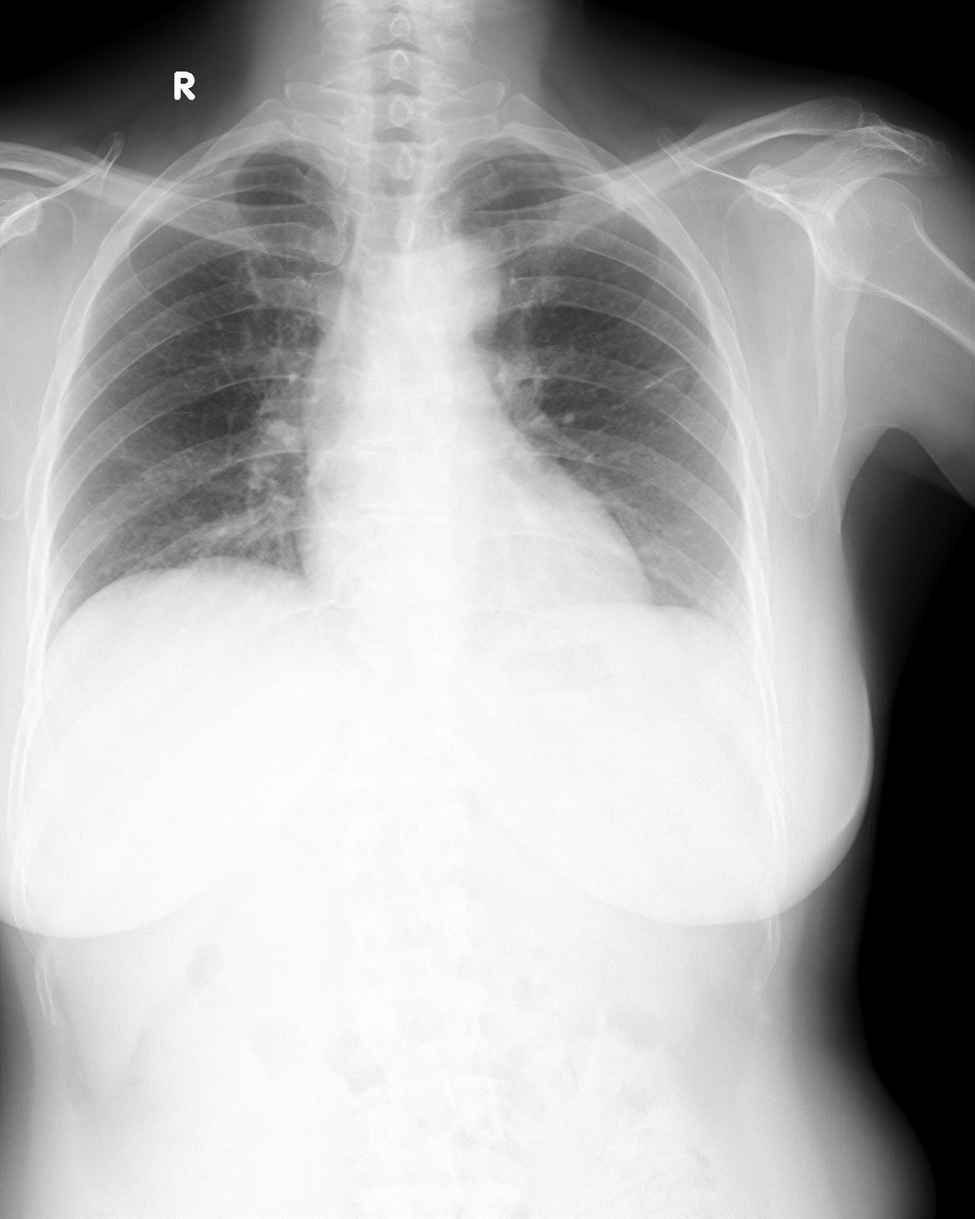Aortic enlargement: (406, 235, 497, 356)
Pulmonary fibrosis: (632, 361, 685, 394)
